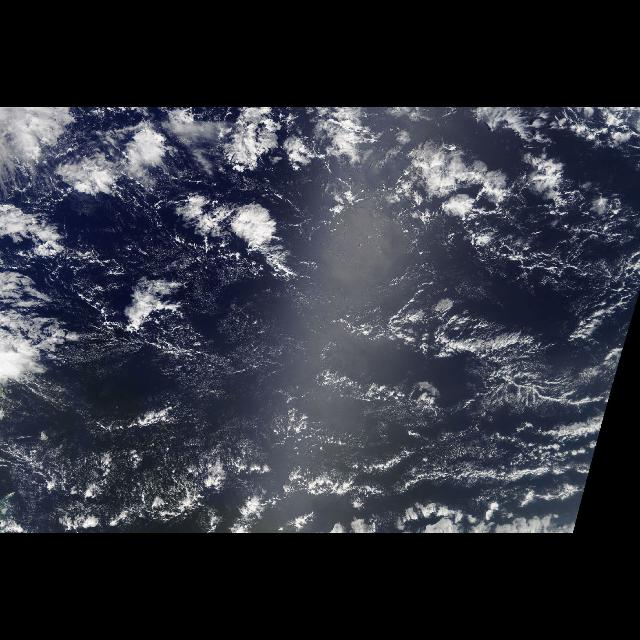Flower: (52, 109, 620, 281)
Gravel: (119, 292, 619, 524)
Sugar: (13, 430, 210, 530)
